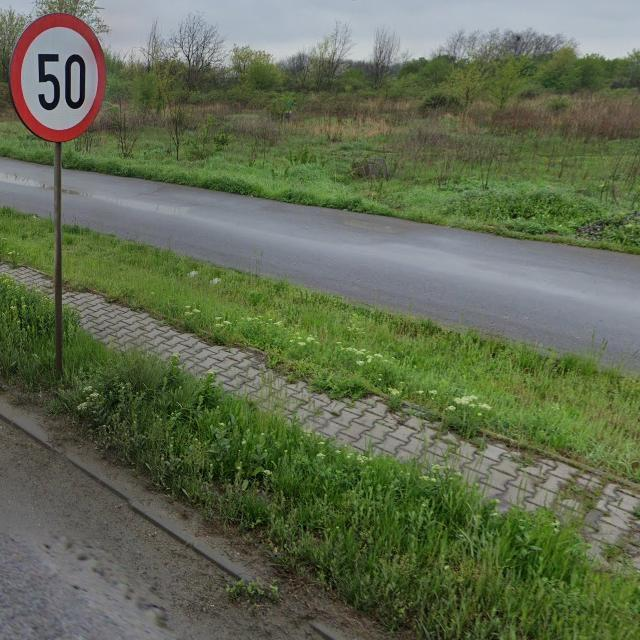forb_speed_over_50: (13, 12, 107, 143)
